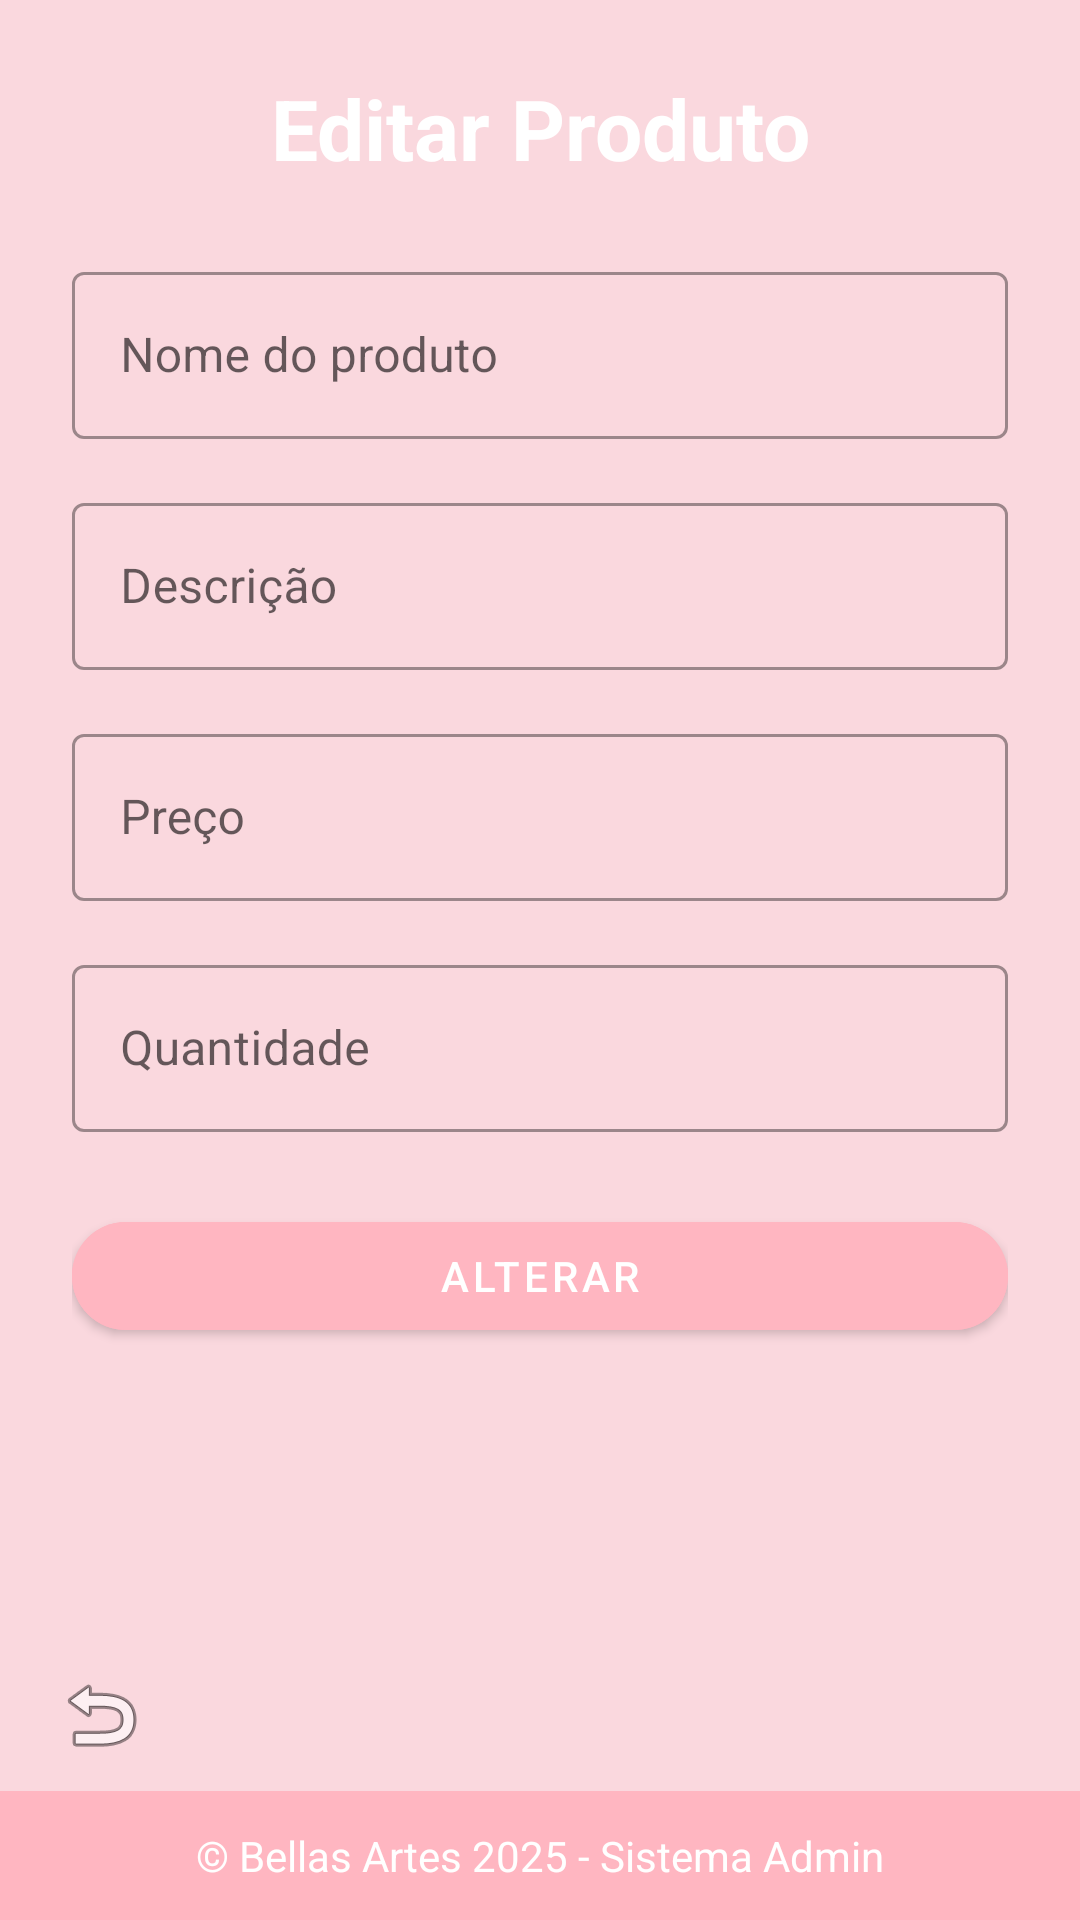

Screen size 1080*1920. Icon name, then its center in pixels as (x=x, y=y):
Voltar: (x=102, y=1715)
